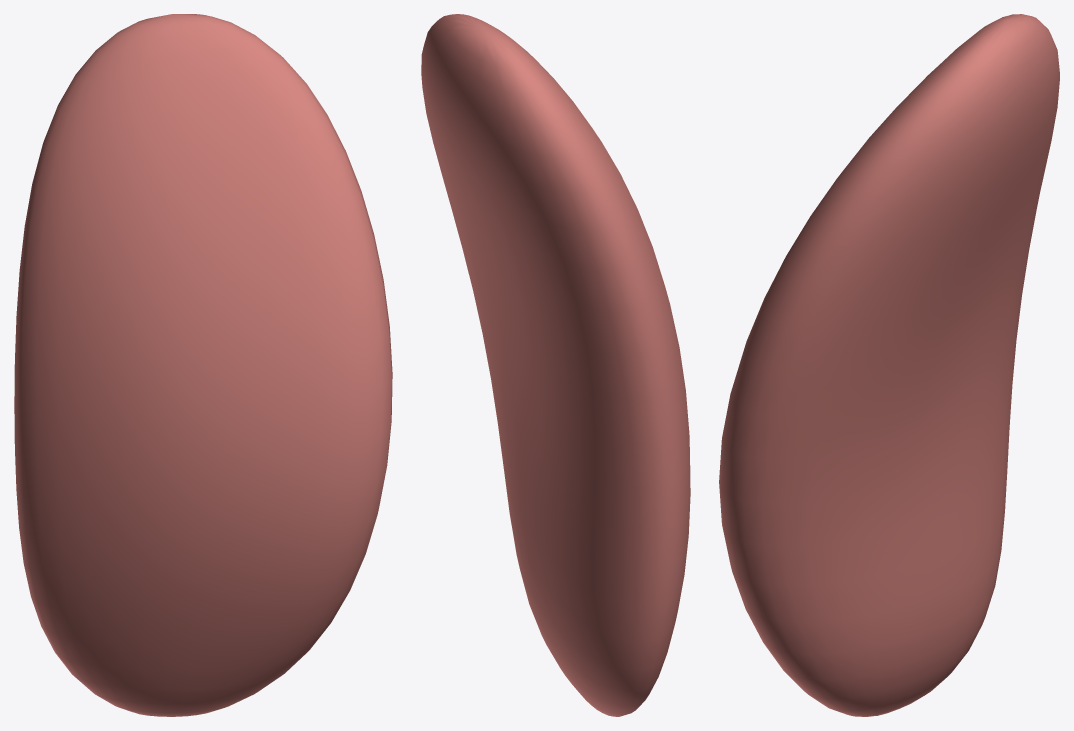
3 renders of one model, left to right at view 1: azimuth 30°, elevation 25°; view 2: azimuth 150°, elevation 25°; view 3: azimuth 270°, elevation 25°, orthographic. The views are drawn at different scales.
Visible parts, largest first — view 1: ZA_494cb19ccb6bbf11; view 2: ZA_494cb19ccb6bbf11; view 3: ZA_494cb19ccb6bbf11.
Boxes of the visible parts, left/top/right/bottom form: ZA_494cb19ccb6bbf11: left=14, top=14, right=392, bottom=716; ZA_494cb19ccb6bbf11: left=421, top=14, right=690, bottom=716; ZA_494cb19ccb6bbf11: left=719, top=14, right=1059, bottom=716.
Size of the model in its own units: 0.00691 by 0.0153 by 0.00657.
